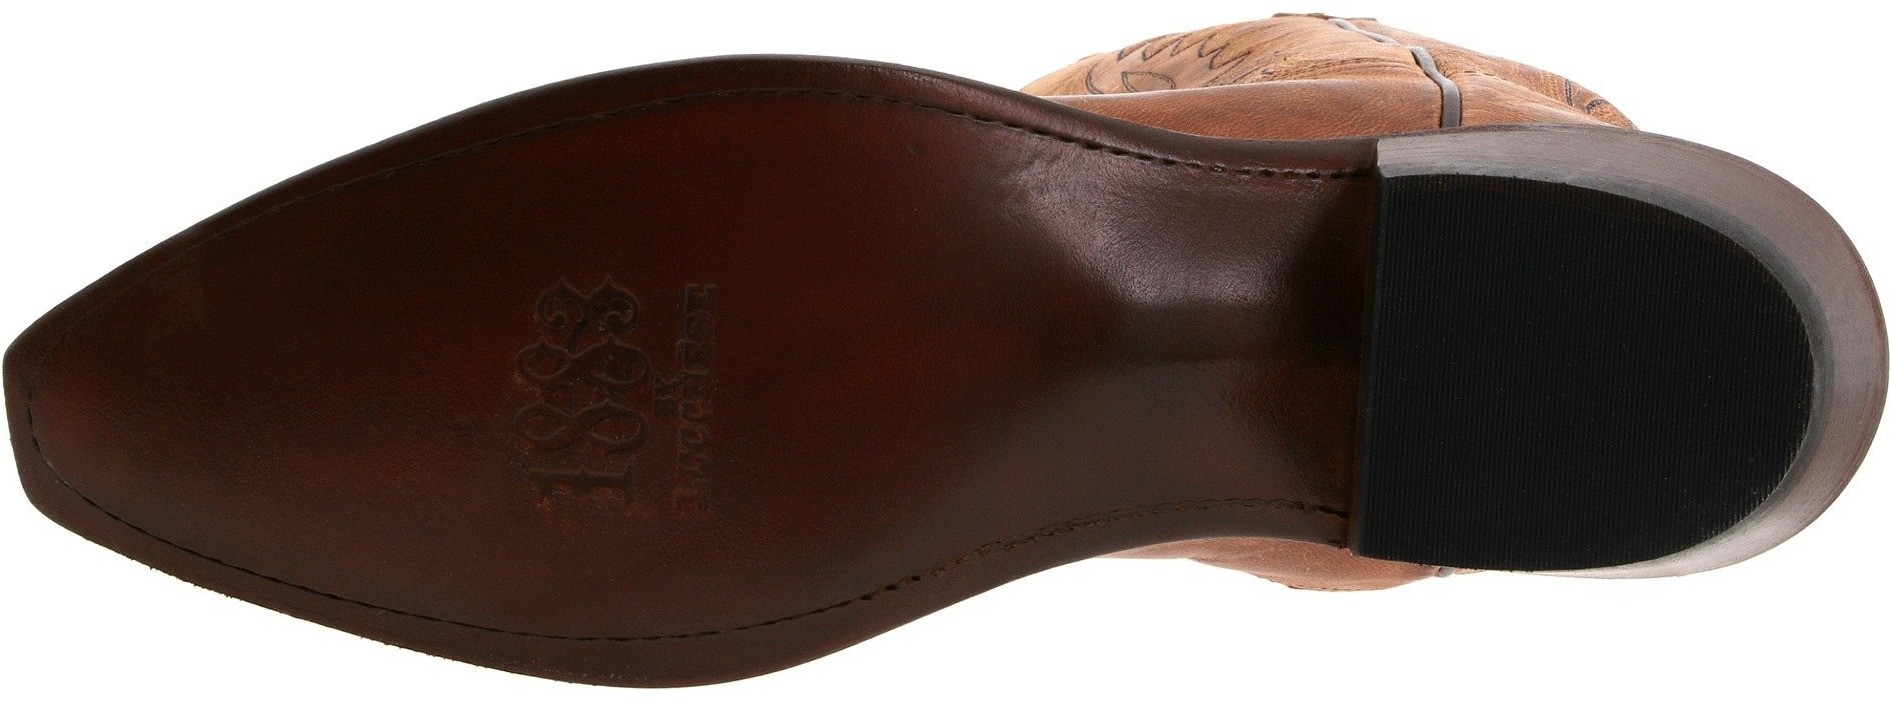exclude: (1056, 21, 1386, 574)
other: (753, 173, 1056, 484), (206, 263, 503, 554), (601, 123, 753, 262)
text: (508, 257, 742, 443), (549, 449, 633, 536)
